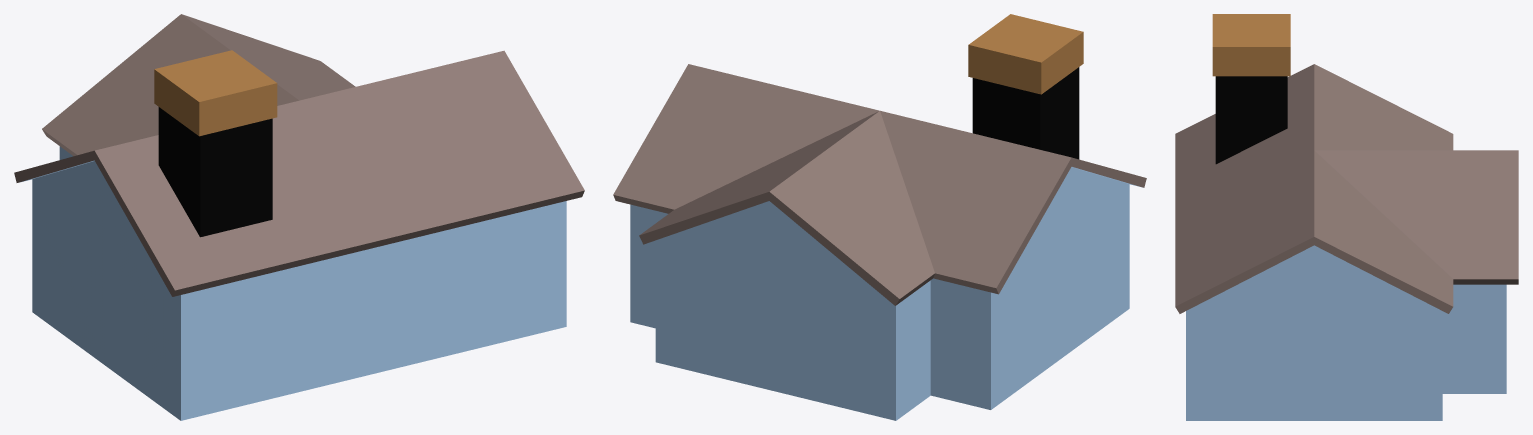
Rendered from Map-House-T-Lv2-R.fbx.
3 views of the same model, side by side, from view 1: azimuth 30°, elevation 25°; view 2: azimuth 150°, elevation 25°; view 3: azimuth 270°, elevation 25° (orthographic). The views are drawn at different scales.
Parts seen in each view (by area): view 1: Map-House-T-Lv2-R; view 2: Map-House-T-Lv2-R; view 3: Map-House-T-Lv2-R.
Part boxes in pixels (box(x1,y1,x2,y2)): Map-House-T-Lv2-R: box(14, 14, 584, 420); Map-House-T-Lv2-R: box(613, 14, 1146, 420); Map-House-T-Lv2-R: box(1175, 14, 1518, 420).
Bounding box in the file's own units: 1.91 × 1.33 × 1.6.
